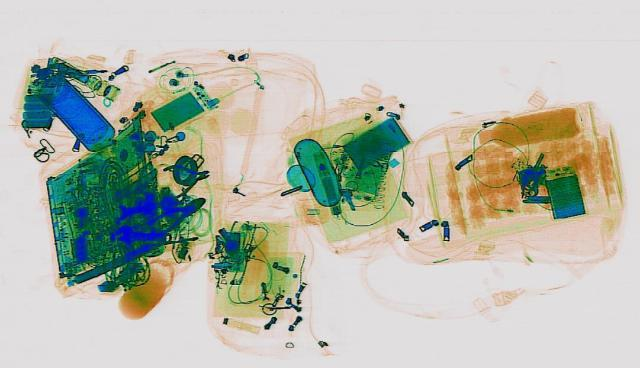Pliers: (137, 191, 217, 235), (155, 158, 219, 194)
Wrench: (110, 225, 170, 242)
